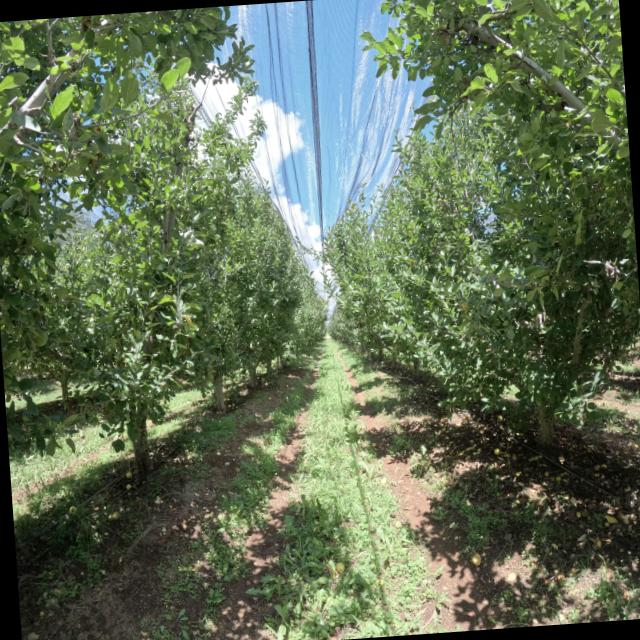-FireBlight-: (426, 23, 458, 45)
